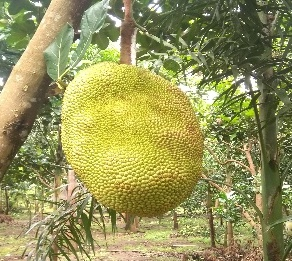Mit: (61, 62, 204, 217)
